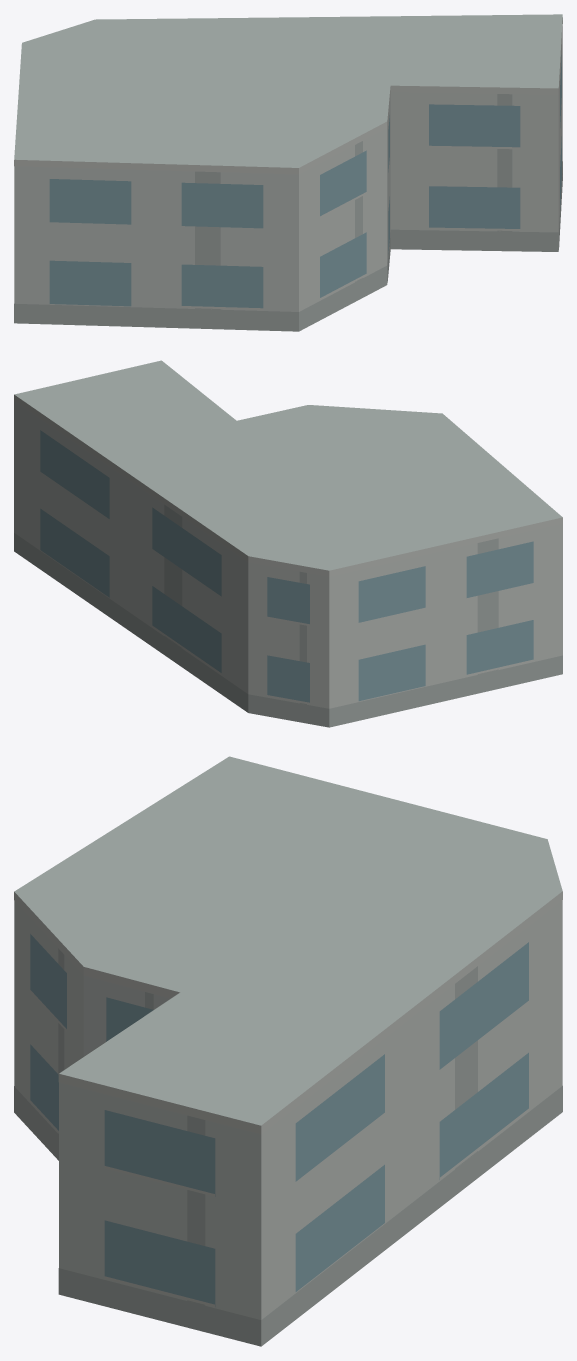
The model's file is survey-upis-32884559.glb.
The picture shows the model from 3 angles, top to bottom: view 1: azimuth 30°, elevation 25°; view 2: azimuth 150°, elevation 25°; view 3: azimuth 270°, elevation 25°; orthographic projection. The views are drawn at different scales.
Visible parts, largest first — view 1: survey-upis-32884559.tmp; view 2: survey-upis-32884559.tmp; view 3: survey-upis-32884559.tmp.
Boxes of the visible parts, x1,y1,x2,y2 form: survey-upis-32884559.tmp: (14,14,562,331); survey-upis-32884559.tmp: (14,360,562,727); survey-upis-32884559.tmp: (14,756,562,1346).
Size of the model in its own units: 21.88 by 6.1 by 13.74.
